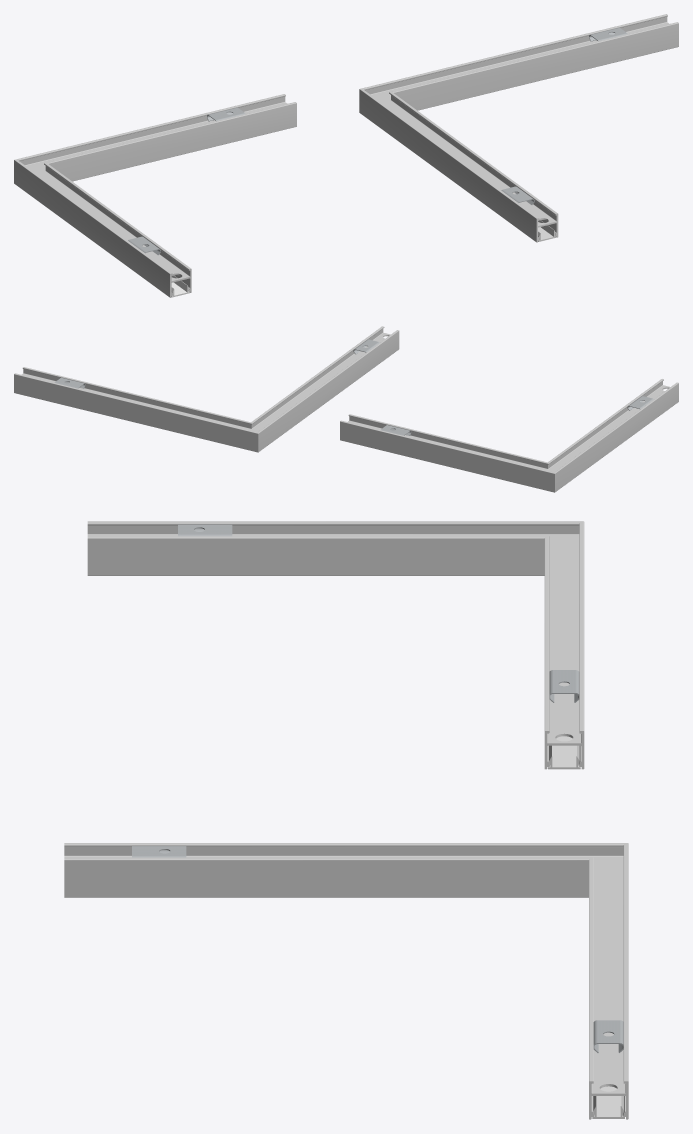
The model's file is Fit15Plafon-curva-direita-esquerda.glb.
The picture shows the model from 3 angles, top to bottom: view 1: azimuth 30°, elevation 25°; view 2: azimuth 150°, elevation 25°; view 3: azimuth 270°, elevation 25°; orthographic projection. The views are drawn at different scales.
Parts seen in each view (by area): view 1: 3DGeom-1, 3DGeom-15, 3DGeom-3, 3DGeom-14; view 2: 3DGeom-1, 3DGeom-15, 3DGeom-3, 3DGeom-14; view 3: 3DGeom-3, 3DGeom-14, 3DGeom-1, 3DGeom-15.
Boxes of the visible parts, x1,y1,x2,y2 form: 3DGeom-1: (360,14,678,110); 3DGeom-15: (15,94,296,181); 3DGeom-3: (359,89,557,242); 3DGeom-14: (14,159,191,297); 3DGeom-1: (14,367,258,452); 3DGeom-15: (340,414,554,492); 3DGeom-3: (251,326,399,452); 3DGeom-14: (548,379,678,492); 3DGeom-3: (64,843,627,897); 3DGeom-14: (87,521,583,575); 3DGeom-1: (589,843,628,1115); 3DGeom-15: (544,521,584,764).
Bounding box in the file's own units: 0.5422 × 0.0397 × 0.25.
3 materials, 1 textured.
